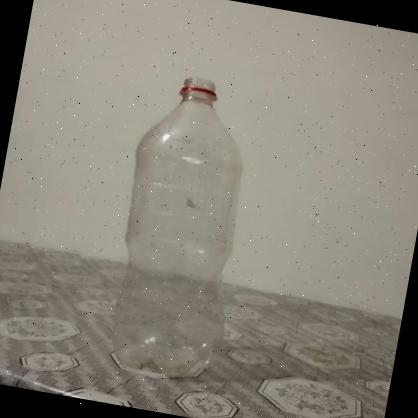bottle: (93, 67, 268, 388)
